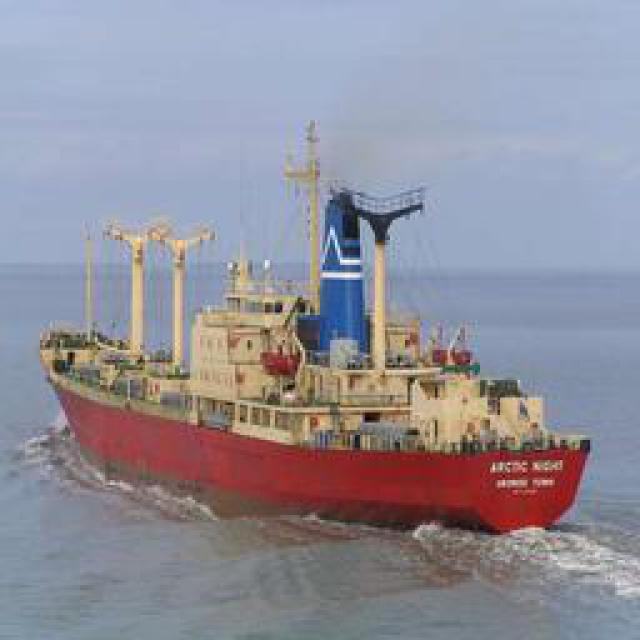Ship: (38, 185, 596, 533)
